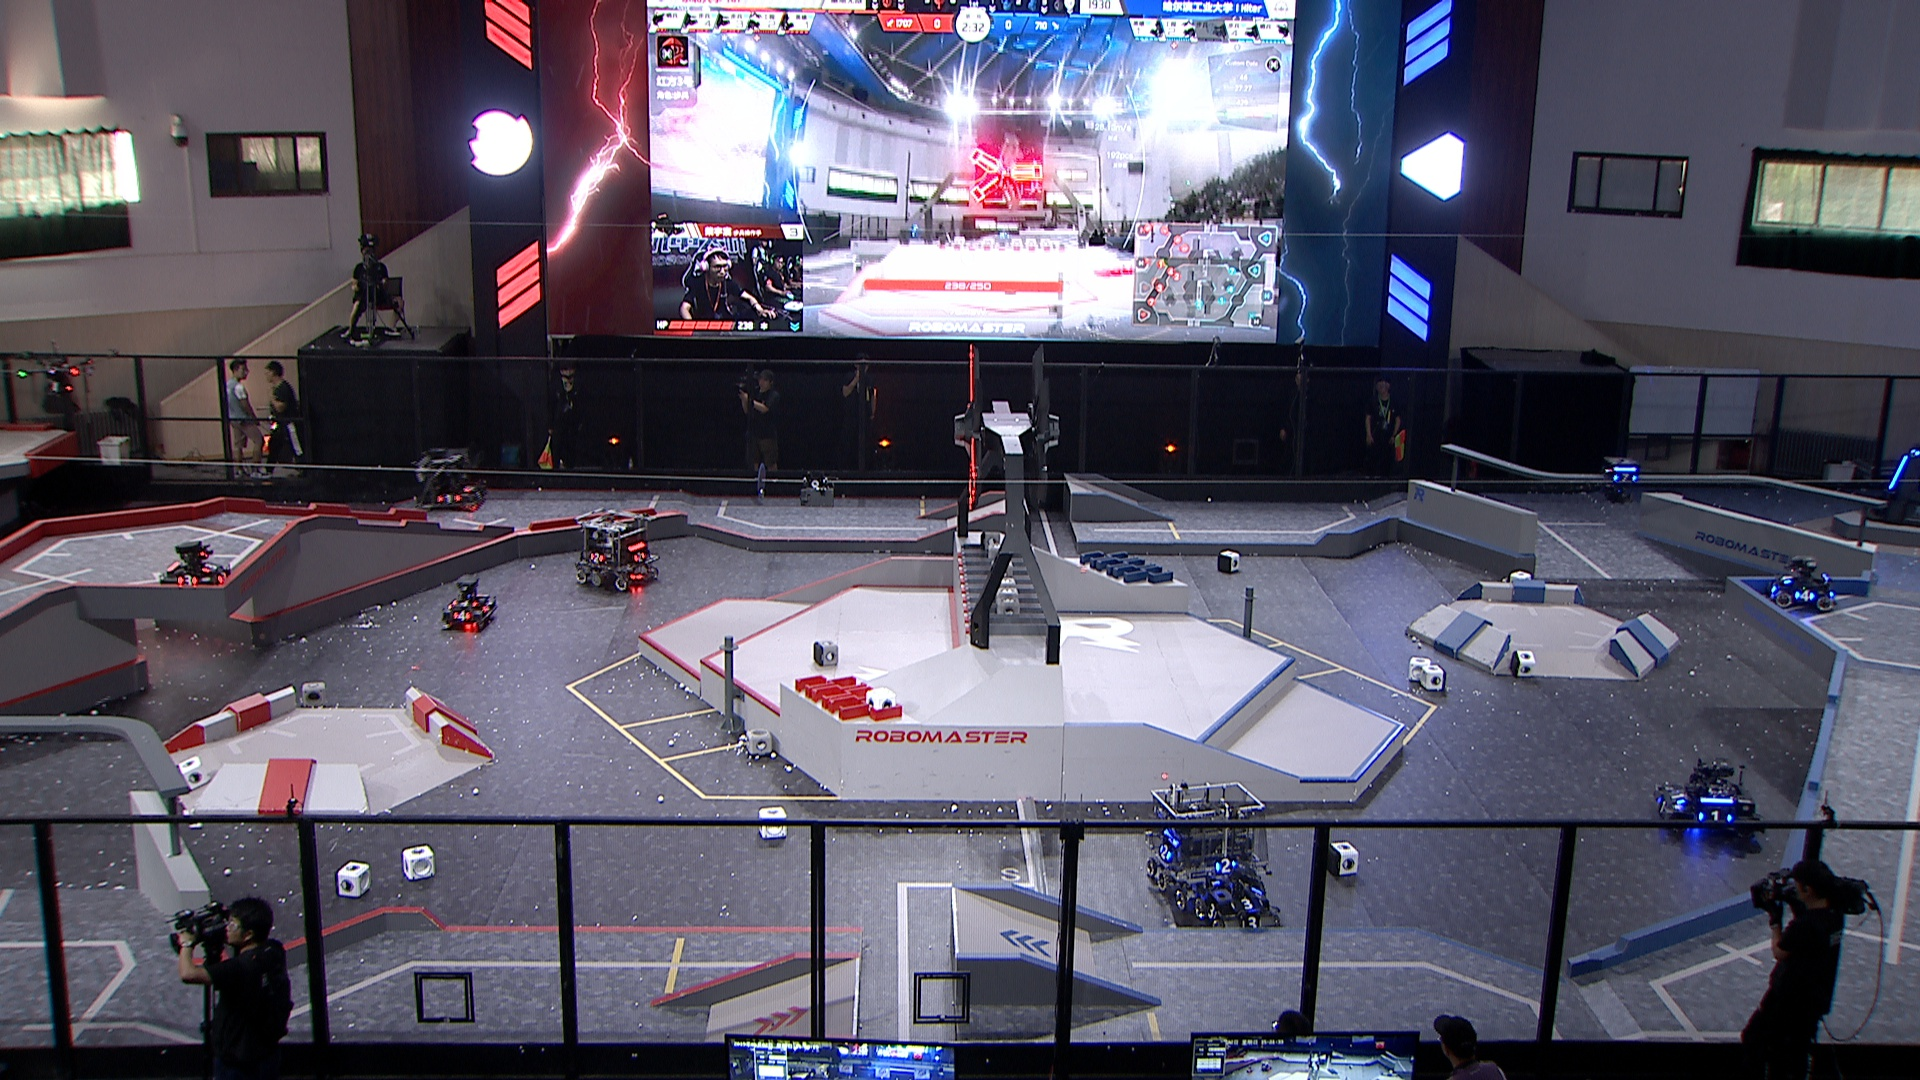armor: (1888, 454, 1909, 491), (1230, 894, 1267, 913), (1695, 808, 1735, 823), (1215, 856, 1240, 876), (1793, 588, 1817, 604), (1240, 915, 1263, 931), (1669, 789, 1688, 808), (436, 491, 462, 505), (1656, 796, 1673, 818), (1611, 472, 1638, 485), (175, 574, 200, 585), (1158, 843, 1174, 861), (452, 597, 479, 608), (200, 560, 220, 574), (1205, 902, 1218, 920), (451, 611, 471, 622), (589, 551, 607, 564), (216, 567, 231, 582), (632, 551, 647, 564), (1778, 574, 1795, 585), (472, 491, 487, 504), (462, 483, 477, 495), (481, 603, 495, 615)
base: (1865, 446, 1920, 527)
car: (1147, 778, 1273, 911), (1655, 756, 1766, 844), (571, 508, 662, 593), (1195, 862, 1284, 942), (413, 446, 489, 513), (1768, 555, 1837, 616), (160, 541, 233, 593), (438, 572, 498, 633)
watcher: (1604, 455, 1640, 505)
